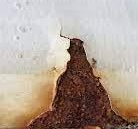Corrosion: (12, 37, 138, 129)
